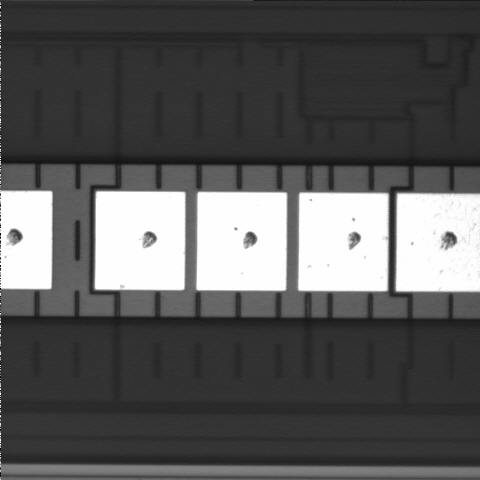pad: (95, 191, 185, 290), (197, 192, 287, 291), (298, 193, 388, 291)
